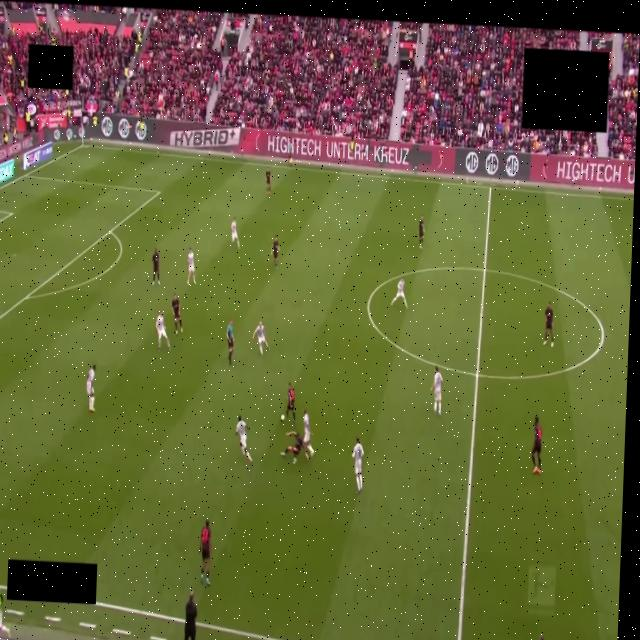ball: (281, 415, 284, 421)
player: (235, 416, 252, 464), (199, 521, 210, 586), (281, 432, 304, 463), (353, 438, 364, 493), (431, 366, 443, 415), (156, 313, 170, 351), (253, 321, 269, 354), (532, 417, 541, 475), (303, 410, 314, 457), (391, 278, 407, 307), (543, 302, 553, 347), (87, 365, 96, 413), (172, 294, 182, 335), (286, 383, 295, 422), (187, 248, 195, 284), (152, 249, 160, 285), (231, 219, 239, 249), (265, 168, 273, 196), (272, 237, 279, 268), (418, 216, 424, 248)
referee: (226, 320, 233, 365)
